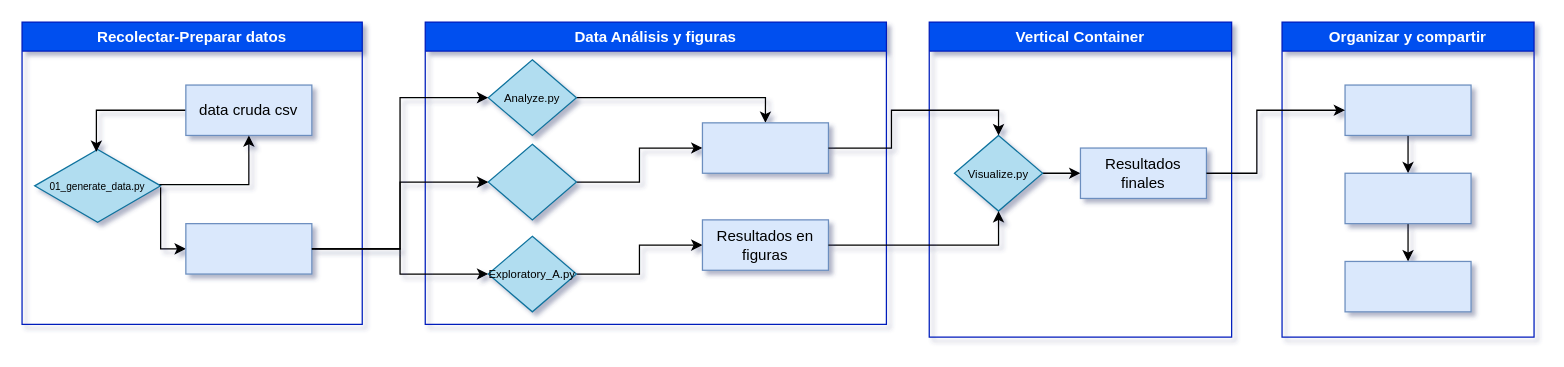
This 1564x367 diagram has some shape labels left out. The shapes that lost their labels are listed below. From the top down, each one's centre as x and y in pixels, then its label:
At (x=1407, y=109): "Carpeta Local".
At (x=764, y=147): "Resultados en Tablas".
At (x=531, y=181): "Regression.py".
At (x=1407, y=198): "Gitthub Repo".
At (x=248, y=248): "Data limpia y procesada csv".
At (x=1407, y=286): "Documento Final".
